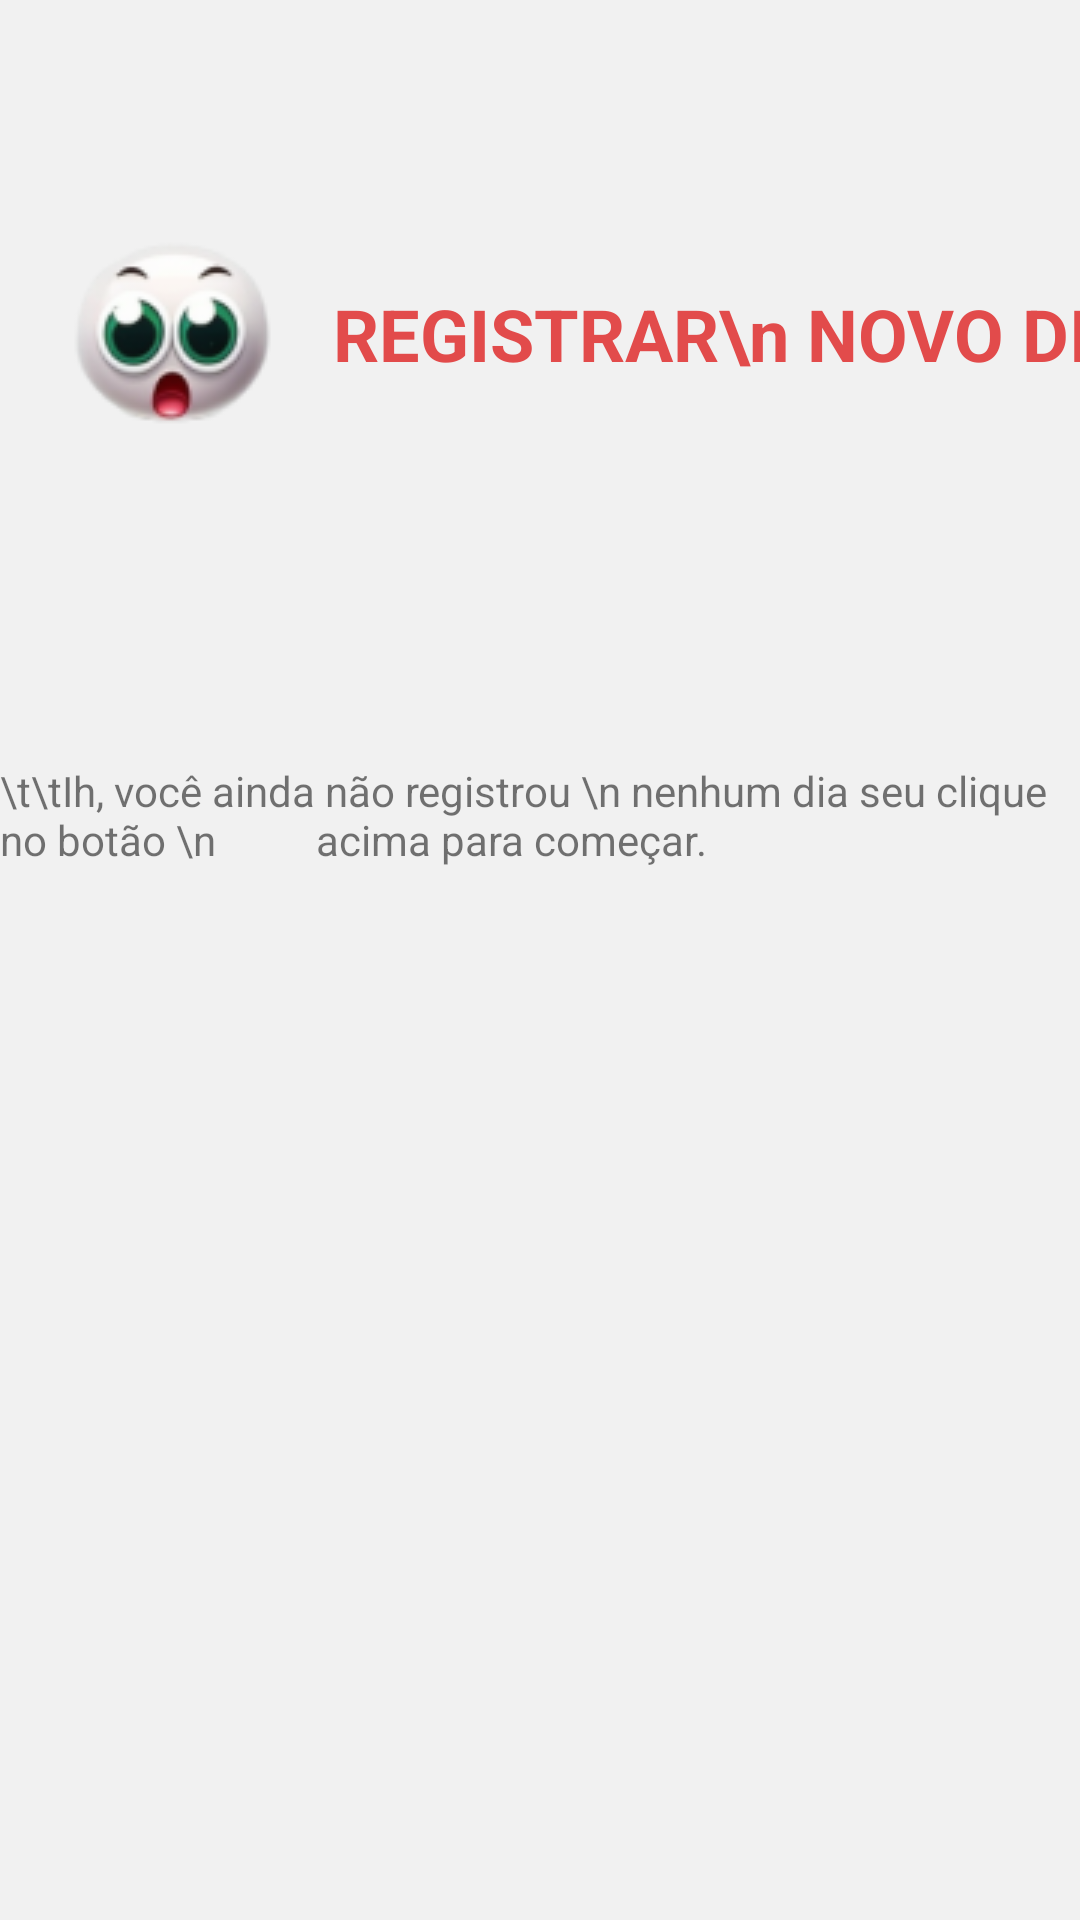

Screen size 1080x1920. Icon name, then its box in pixels as (x1, y1, x2, y2):
homeemoji: (79, 265, 268, 421)
